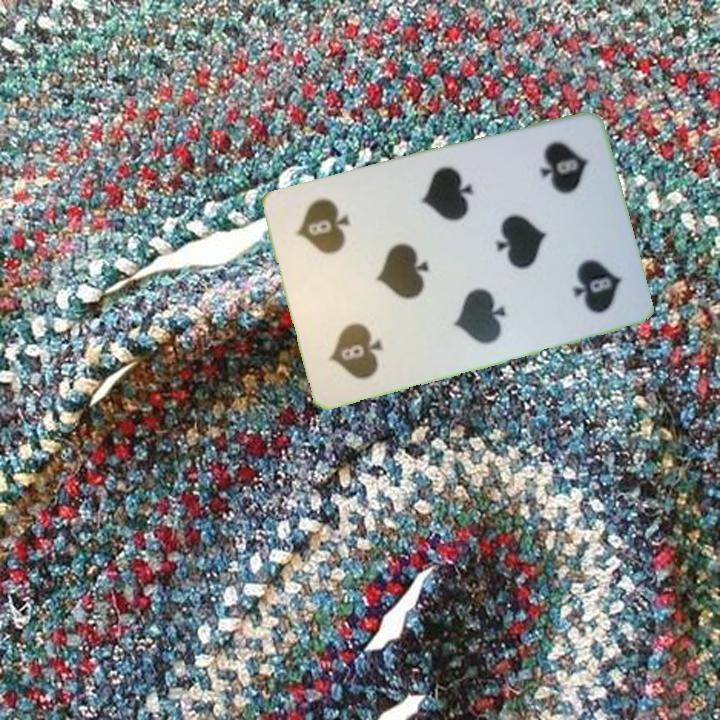s_8.png: (302, 275, 409, 393), (506, 124, 613, 241)
